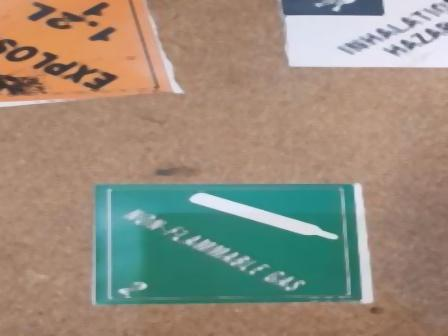explosive: (1, 1, 176, 98)
non-flammable-gas: (91, 183, 374, 305)
poison: (283, 1, 448, 68)
